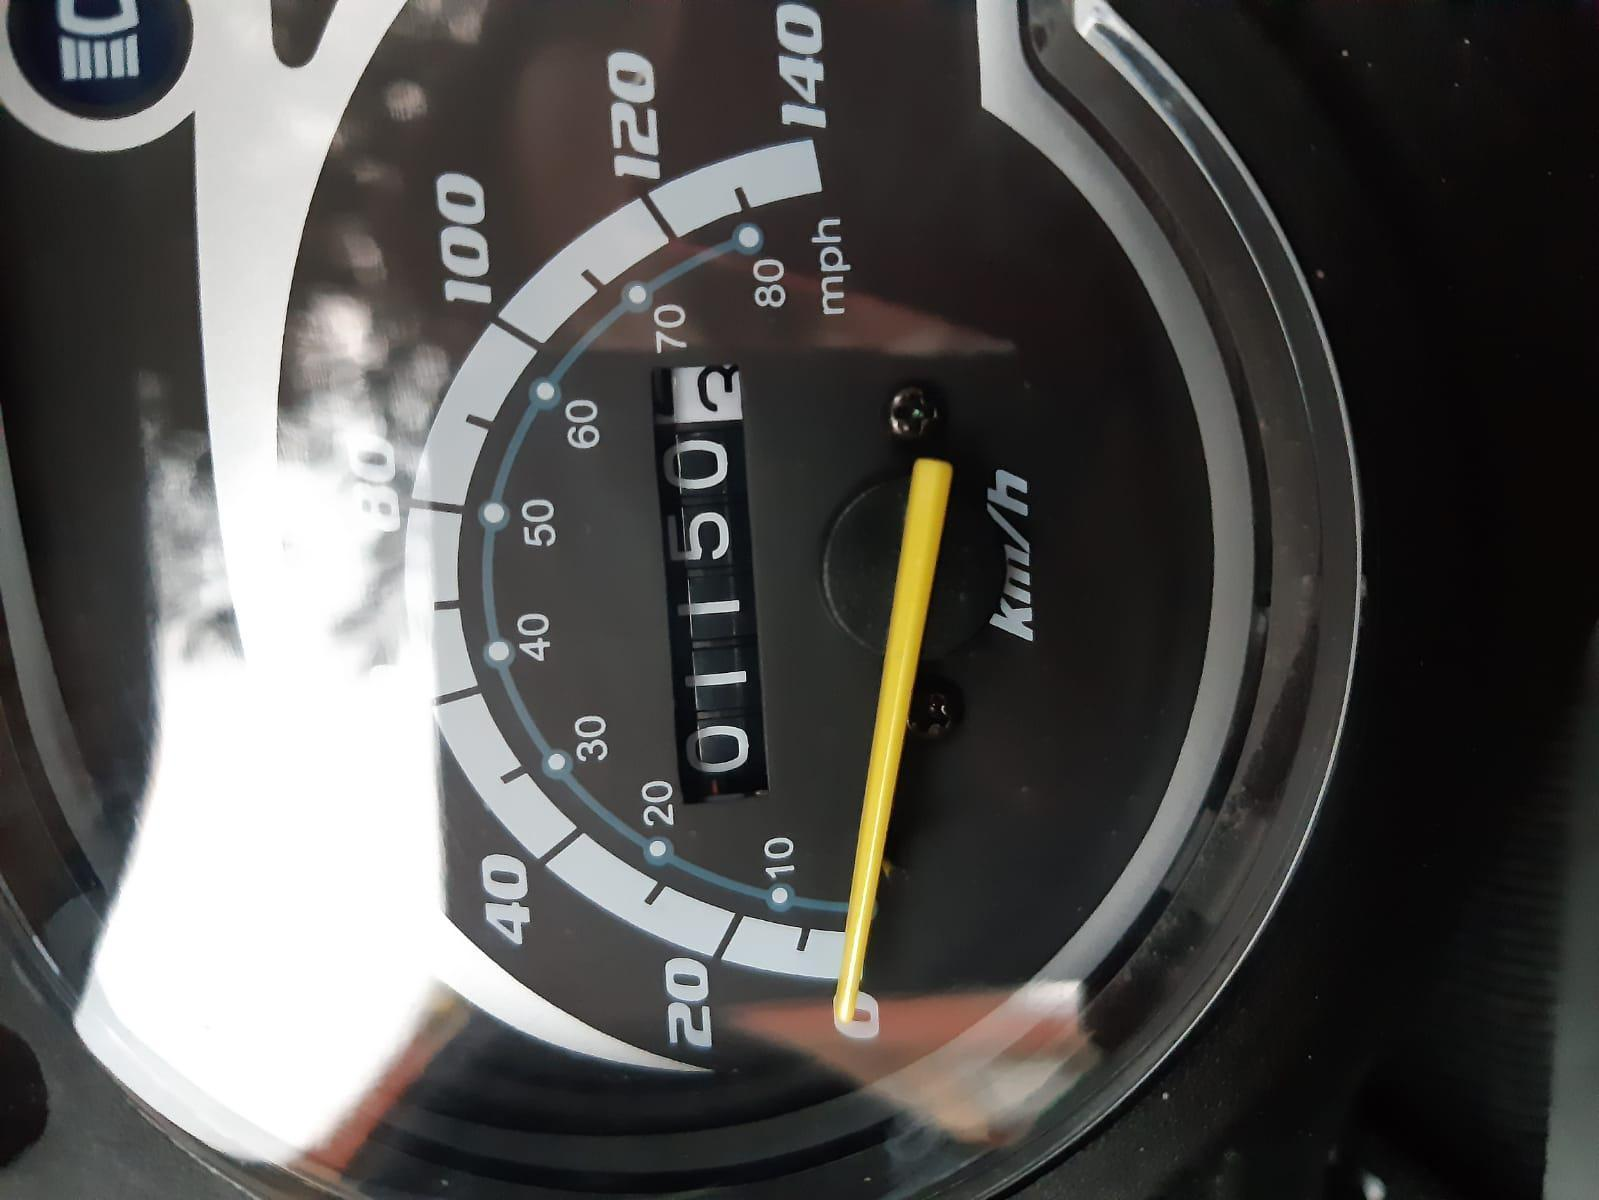0: (659, 435, 733, 492), (683, 720, 754, 776), (640, 778, 675, 804)
1: (674, 666, 757, 695), (668, 594, 751, 621)
3: (687, 359, 761, 417)
5: (659, 504, 740, 566)
odometer: (638, 352, 775, 807)
